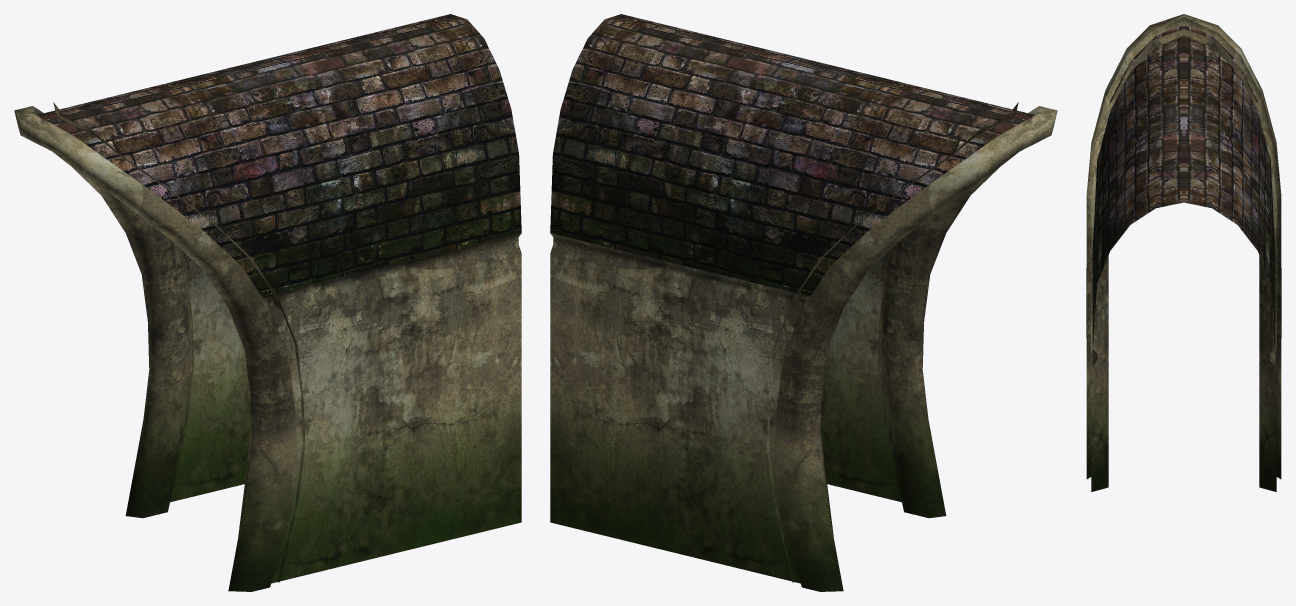
The model's file is wall_tunnel_high_entrance.DAE.
3 renders of one model, left to right at view 1: azimuth 30°, elevation 25°; view 2: azimuth 150°, elevation 25°; view 3: azimuth 270°, elevation 25°, orthographic. The views are drawn at different scales.
Parts seen in each view (by area): view 1: wall_tunnel_high_ceiling_entrance, wall_tunnel_high_entrance, wall_high_arch; view 2: wall_tunnel_high_ceiling_entrance, wall_tunnel_high_entrance, wall_high_arch; view 3: wall_tunnel_high_ceiling_entrance, wall_high_arch, wall_tunnel_high_entrance.
Part boxes in pixels (x1=…): wall_tunnel_high_ceiling_entrance: x1=37, y1=14, x2=521, y2=296; wall_tunnel_high_entrance: x1=170, y1=233, x2=521, y2=583; wall_high_arch: x1=14, y1=102, x2=305, y2=591; wall_tunnel_high_ceiling_entrance: x1=550, y1=14, x2=1034, y2=296; wall_tunnel_high_entrance: x1=550, y1=233, x2=901, y2=583; wall_high_arch: x1=766, y1=102, x2=1057, y2=591; wall_tunnel_high_ceiling_entrance: x1=1092, y1=25, x2=1275, y2=347; wall_high_arch: x1=1086, y1=14, x2=1281, y2=491; wall_tunnel_high_entrance: x1=1092, y1=283, x2=1275, y2=365.
Bounding box in the file's own units: 3.34 × 3.38 × 1.51.
